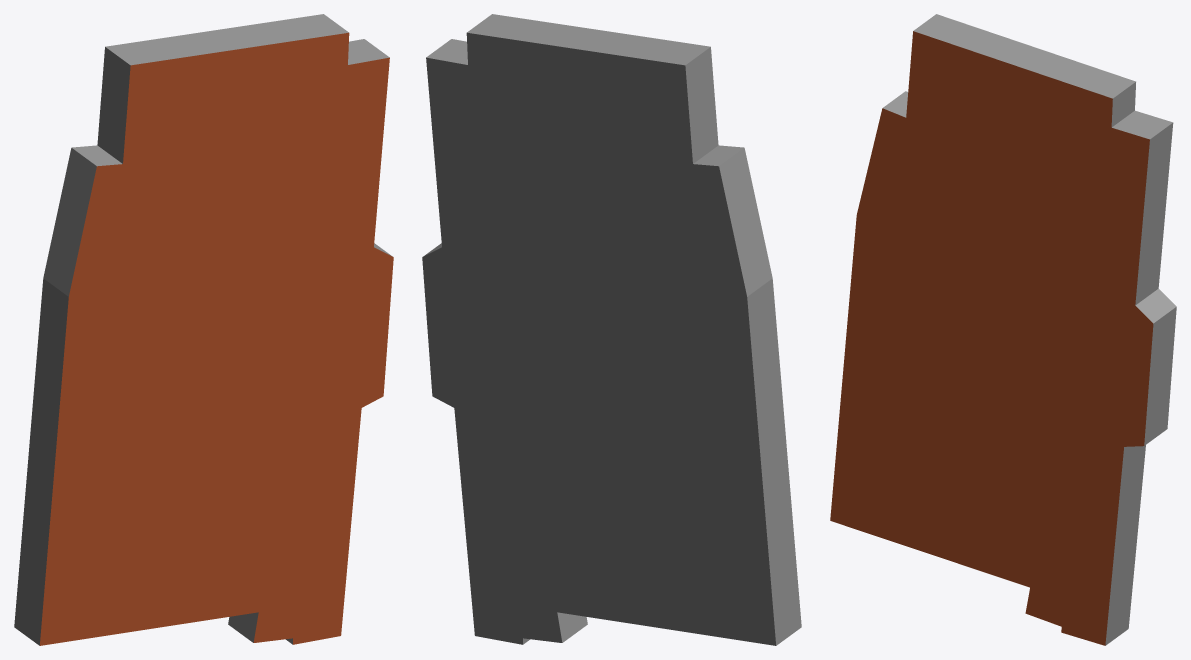
File: construction_1857_assumed_A_Casa_h6m.obj
3 views of the same model, side by side, from view 1: azimuth 30°, elevation 25°; view 2: azimuth 150°, elevation 25°; view 3: azimuth 330°, elevation 25° (orthographic). The views are drawn at different scales.
Visible parts, largest first — view 1: construction_1857_assumed_A_Casa; view 2: construction_1857_assumed_A_Casa; view 3: construction_1857_assumed_A_Casa.
Boxes of the visible parts, x1=… form: construction_1857_assumed_A_Casa: x1=14, y1=14, x2=393, y2=645; construction_1857_assumed_A_Casa: x1=422, y1=14, x2=801, y2=645; construction_1857_assumed_A_Casa: x1=830, y1=14, x2=1176, y2=645.
Size of the model in its own units: 48.02 by 80.62 by 6.
